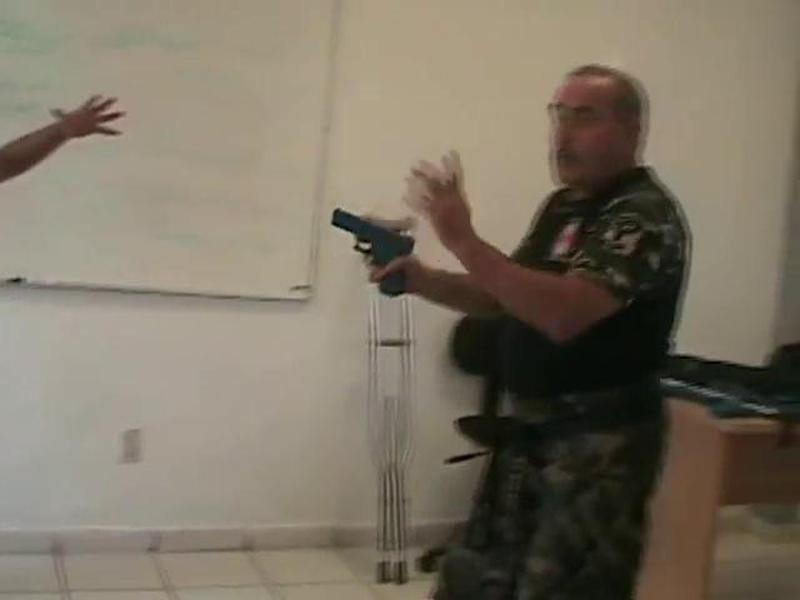Pistola: (313, 201, 427, 303)
